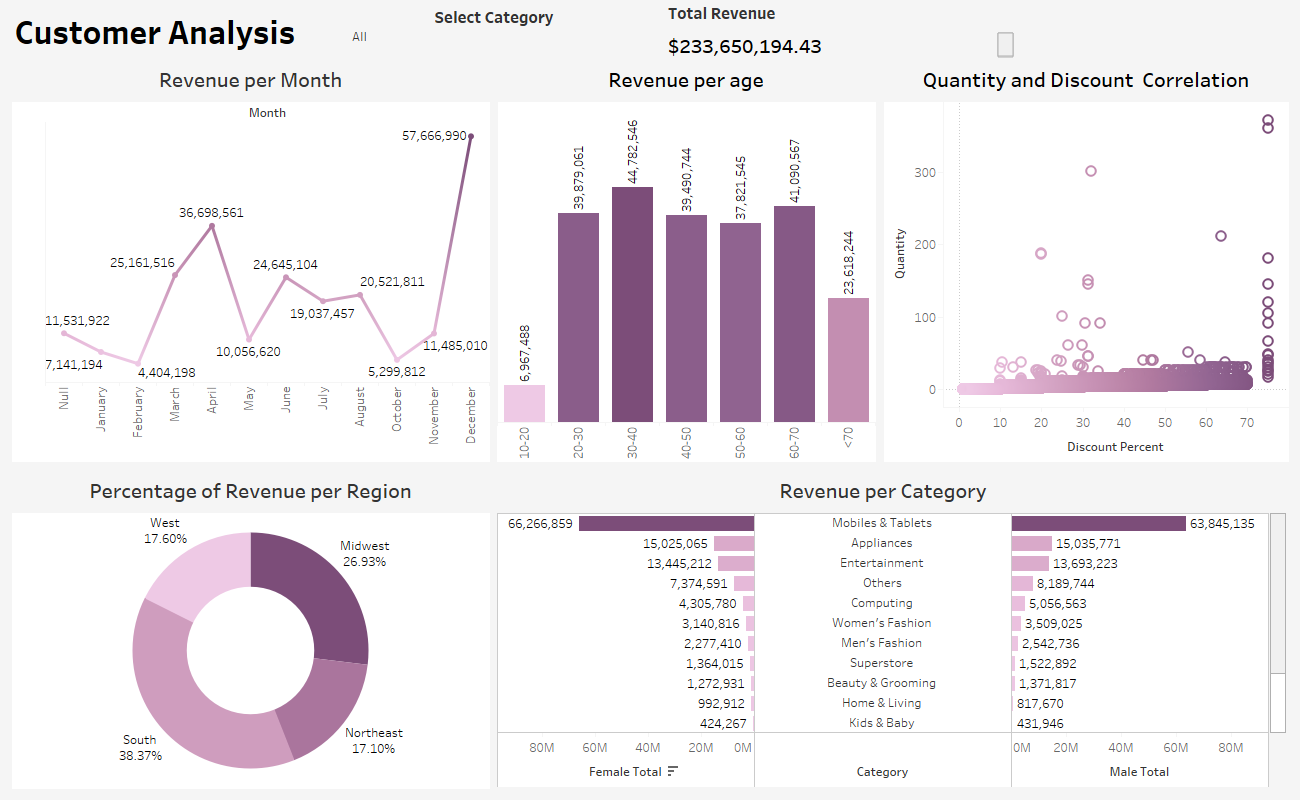

The dashboard page shown, as its layout file describes it:
{"tool":"tableau","page":{"name":"Dashboard 1","canvas":[1300,800],"ordinal":0},"visuals":[{"type":"filter","title":"Revenue per category","param":"[federated.0fjiifx1w2kban13suam51pa5foj].[none:category:nk]","box":[350,5,288,73]},{"type":"text","box":[8,8,1284,47]},{"type":"worksheet","title":"Revenue per month","mark":"Automatic","rows":["total"],"cols":["month"],"box":[8,55,485.5,410.8]},{"type":"worksheet","title":"Revenue per age","mark":"Automatic","rows":["total"],"cols":["Age (bin)"],"box":[493.5,55,386.1,410.8]},{"type":"worksheet","title":"Quantity and Discount Correlation","mark":"Automatic","rows":["qty_ordered"],"cols":["Discount_Percent"],"box":[879.6,55,412.4,410.8]},{"type":"worksheet","title":"Percentage of Revenue per Region","mark":"Pie","rows":["Calculation_1109855877568937984","Calculation_1109855877568937984"],"box":[8,465.8,485.5,326.2]},{"type":"worksheet","title":"Revenue per category","mark":"Automatic","rows":["category"],"cols":["Calculation_1109855877637971969","Calculation_1109855877568937984","Calculation_1109855877638135810"],"box":[493.5,465.8,798.5,326.2]}]}

Visuals, with their boxes in screenshot pixels (x1, y1, x2, y2), scaled from the page's 1300x800 canvas onto the 1300x800 screenshot:
"Revenue per category" filter: 350:5:638:78
text: 8:8:1292:55
"Revenue per month" worksheet: 8:55:494:466
"Revenue per age" worksheet: 494:55:880:466
"Quantity and Discount Correlation" worksheet: 880:55:1292:466
"Percentage of Revenue per Region" worksheet (Pie marks): 8:466:494:792
"Revenue per category" worksheet: 494:466:1292:792
